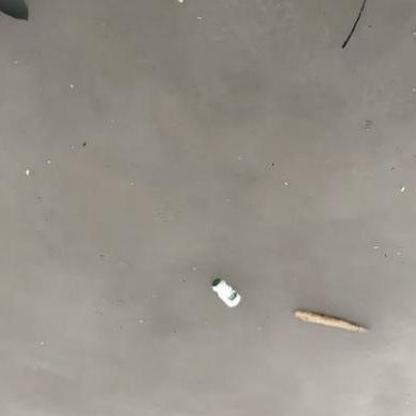plastic bottle: (211, 278, 242, 308)
